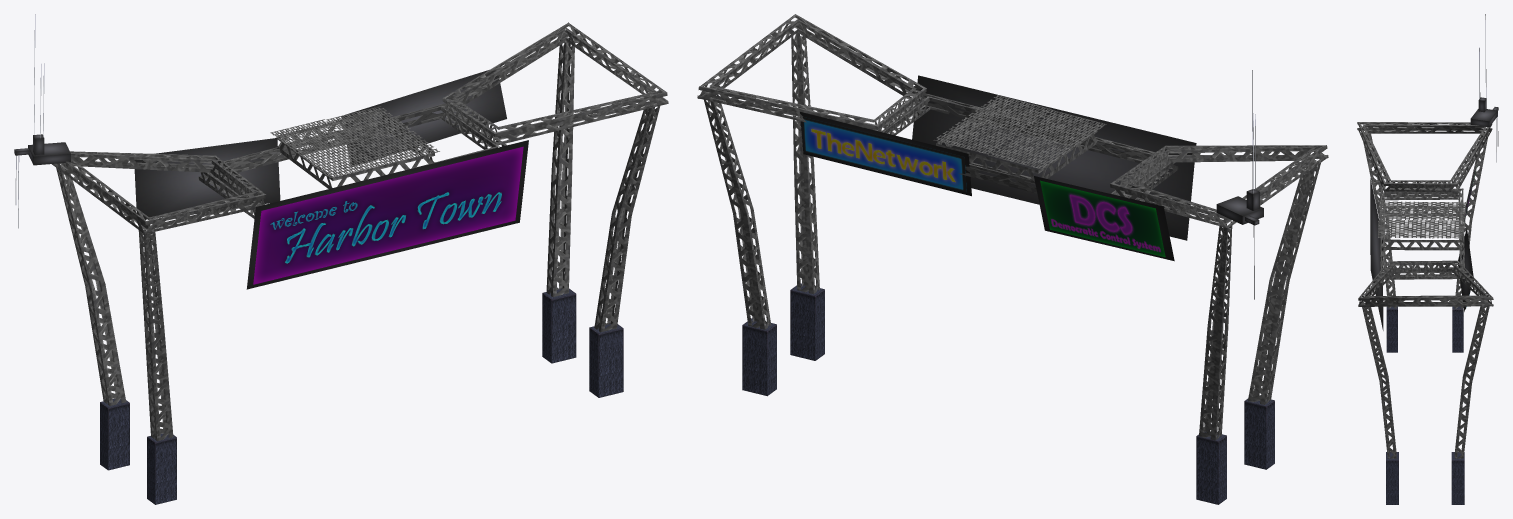
File: town_sign_body.DAE
3 renders of one model, left to right at view 1: azimuth 30°, elevation 25°; view 2: azimuth 150°, elevation 25°; view 3: azimuth 270°, elevation 25°, orthographic. The views are drawn at different scales.
Visible parts, largest first — view 1: Box01-Pivot; view 2: Box01-Pivot; view 3: Box01-Pivot.
Boxes of the visible parts, box(x1,y1,x2,y2) form: Box01-Pivot: box(14, 14, 668, 504); Box01-Pivot: box(697, 14, 1328, 504); Box01-Pivot: box(1357, 14, 1498, 504).
Bounding box in the file's own units: 238 × 185 × 75.15.
